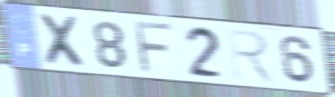2: (183, 23, 228, 82)
6: (278, 34, 317, 86)
8: (91, 19, 130, 70)
F: (133, 20, 178, 76)
R: (224, 26, 279, 85)
X: (35, 11, 92, 71)
